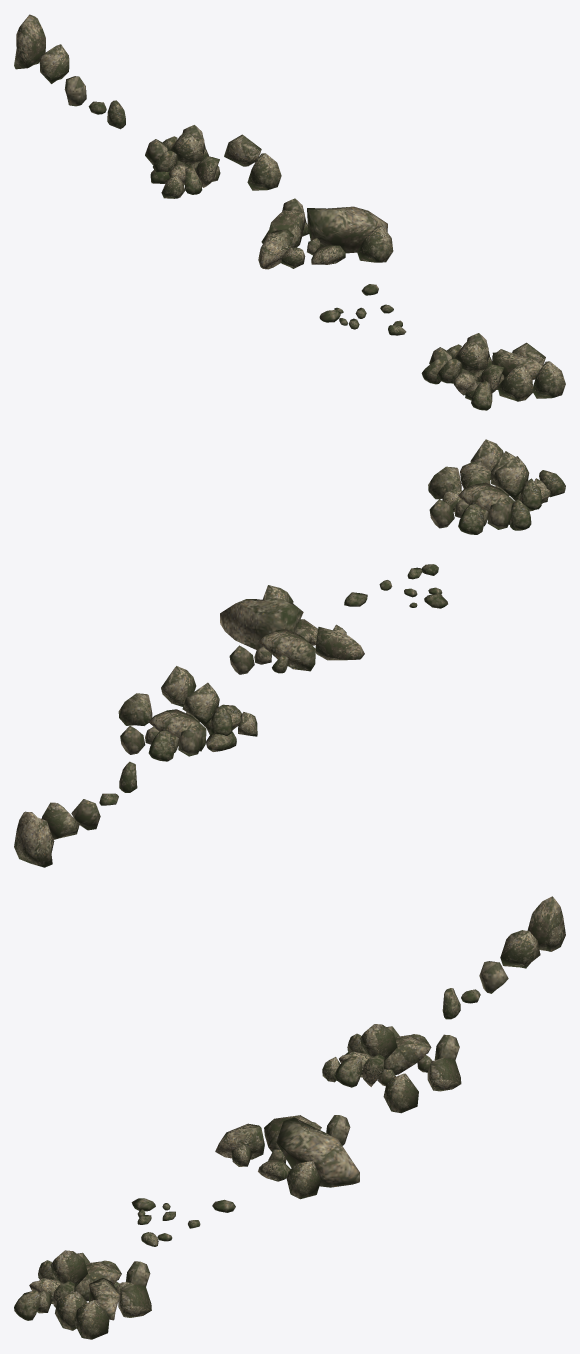
The model's file is stones.fbx.
3 renders of one model, top to bottom at view 1: azimuth 30°, elevation 25°; view 2: azimuth 150°, elevation 25°; view 3: azimuth 330°, elevation 25°, orthographic. The views are drawn at different scales.
Parts seen in each view (by area): view 1: STONES_3, STONES_1, STONES_4, stone_3, STONES_2, STONE_5, STONE_4; view 2: STONES_1, STONES_4, STONES_3, stone_3, STONES_2, STONE_5, STONE_4; view 3: STONES_1, STONES_3, STONES_4, stone_3, STONES_2, STONE_5, STONE_4.
Boxes of the visible parts, x1,y1,x2,y2 form: STONES_3: (258,198,393,269); STONES_1: (421,333,565,410); STONES_4: (145,125,281,198); stone_3: (14,14,45,69); STONES_2: (319,284,406,335); STONE_5: (39,44,69,83); STONE_4: (64,76,86,106); STONES_1: (428,439,565,534); STONES_4: (118,666,257,761); STONES_3: (220,585,364,674); stone_3: (14,811,54,867); STONES_2: (344,564,447,608); STONE_5: (41,802,79,839); STONE_4: (71,799,100,830); STONES_1: (14,1250,151,1339); STONES_3: (215,1115,359,1199); STONES_4: (322,1024,461,1113); stone_3: (527,896,565,951); STONES_2: (131,1198,235,1246); STONE_5: (500,930,540,968); STONE_4: (479,961,508,993).
Size of the model in its own units: 1148 by 421 by 6914.
